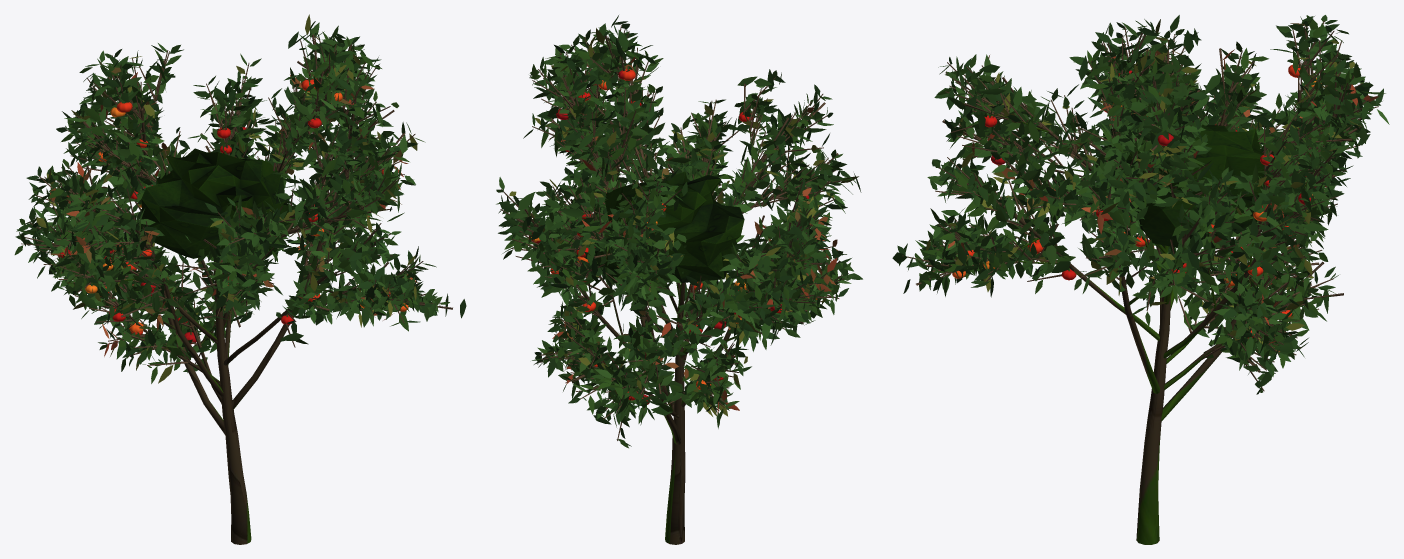
The model's file is pitangueira_folhas_10anos.glb.
The picture shows the model from 3 angles, left to right: view 1: azimuth 30°, elevation 25°; view 2: azimuth 150°, elevation 25°; view 3: azimuth 270°, elevation 25°; orthographic projection. The views are drawn at different scales.
Parts seen in each view (by area): view 1: Pitangueira; view 2: Pitangueira; view 3: Pitangueira.
Part boxes in pixels (bbox=[...]): Pitangueira: bbox=[14, 14, 466, 544]; Pitangueira: bbox=[496, 15, 862, 544]; Pitangueira: bbox=[892, 15, 1389, 544].
Bounding box in the file's own units: 1.08 × 1.48 × 1.18.
Materials: 11 (4 with a texture image).
